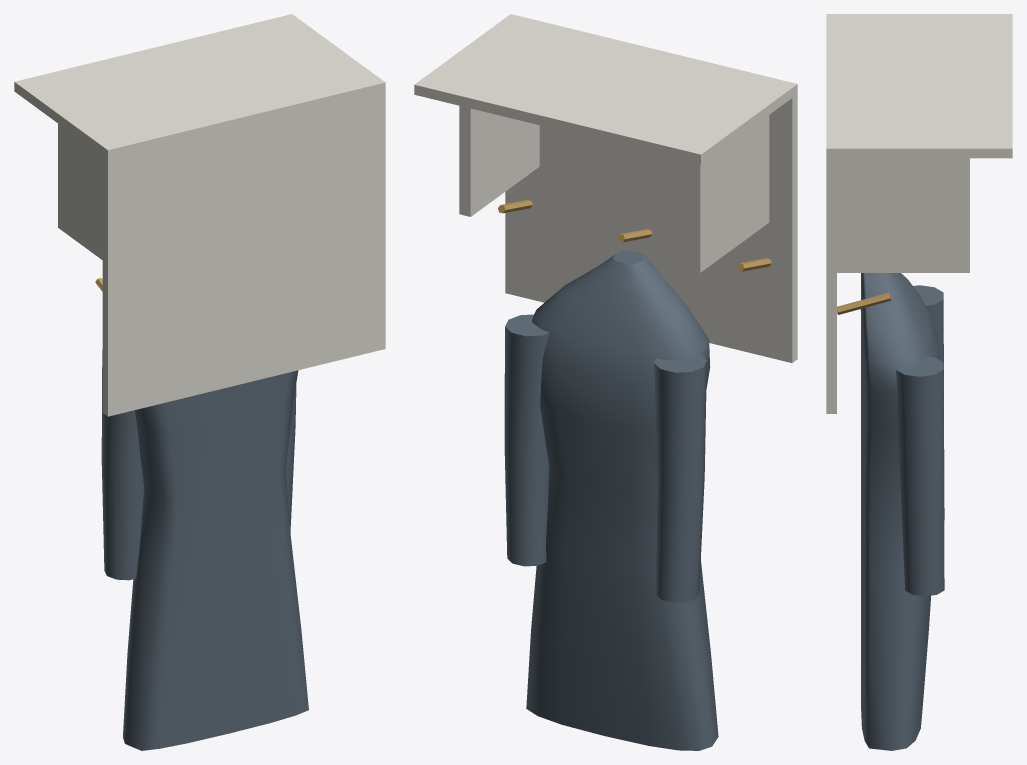
The model's file is parametric-wall-coat-rack-service-0600x0350x1900.glb.
3 renders of one model, left to right at view 1: azimuth 30°, elevation 25°; view 2: azimuth 150°, elevation 25°; view 3: azimuth 270°, elevation 25°, orthographic. The views are drawn at different scales.
Parts seen in each view (by area): view 1: backboard, coat:0, hat-shelf, coat-sleeve:0:-1, bracket:-1, coat-sleeve:0:1; view 2: coat:0, backboard, hat-shelf, coat-sleeve:0:-1, coat-sleeve:0:1, bracket:-1, bracket:1; view 3: hat-shelf, coat:0, bracket:1, coat-sleeve:0:1, backboard, coat-sleeve:0:-1, hook:2.
Boxes of the visible parts, x1=… form: backboard: x1=102, y1=92, x2=385, y2=416; coat:0: x1=123, y1=370, x2=308, y2=750; hat-shelf: x1=14, y1=14, x2=385, y2=159; coat-sleeve:0:-1: x1=101, y1=349, x2=143, y2=580; bracket:-1: x1=58, y1=123, x2=102, y2=259; coat-sleeve:0:1: x1=285, y1=385, x2=296, y2=531; coat:0: x1=526, y1=250, x2=718, y2=750; backboard: x1=505, y1=94, x2=797, y2=362; hat-shelf: x1=414, y1=14, x2=797, y2=164; coat-sleeve:0:-1: x1=654, y1=355, x2=706, y2=602; coat-sleeve:0:1: x1=504, y1=314, x2=549, y2=566; bracket:-1: x1=688, y1=115, x2=769, y2=272; bracket:1: x1=459, y1=106, x2=539, y2=216; hat-shelf: x1=826, y1=14, x2=1012, y2=158; coat:0: x1=861, y1=273, x2=943, y2=750; bracket:1: x1=837, y1=158, x2=969, y2=272; coat-sleeve:0:1: x1=896, y1=356, x2=944, y2=596; backboard: x1=826, y1=158, x2=836, y2=413; coat-sleeve:0:-1: x1=913, y1=285, x2=944, y2=520; hook:2: x1=837, y1=292, x2=891, y2=314.
Size of the model in its own units: 0.6 by 1.3 by 0.35.
